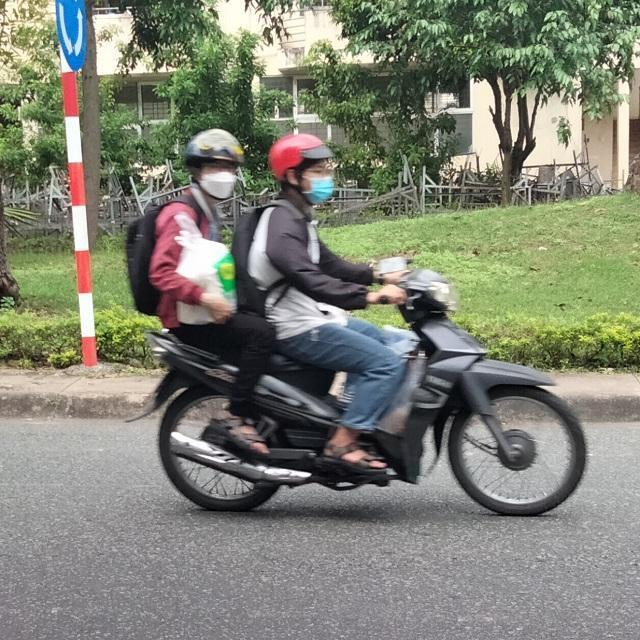Helmet: (269, 132, 335, 205), (182, 127, 242, 200)
